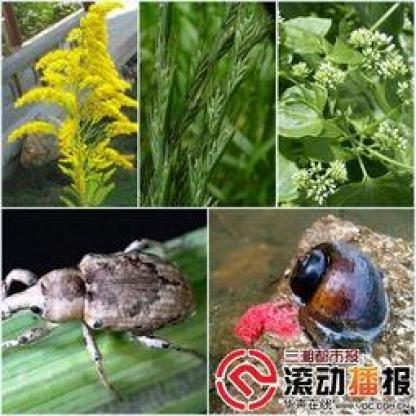rice-bug: (0, 238, 196, 358)
